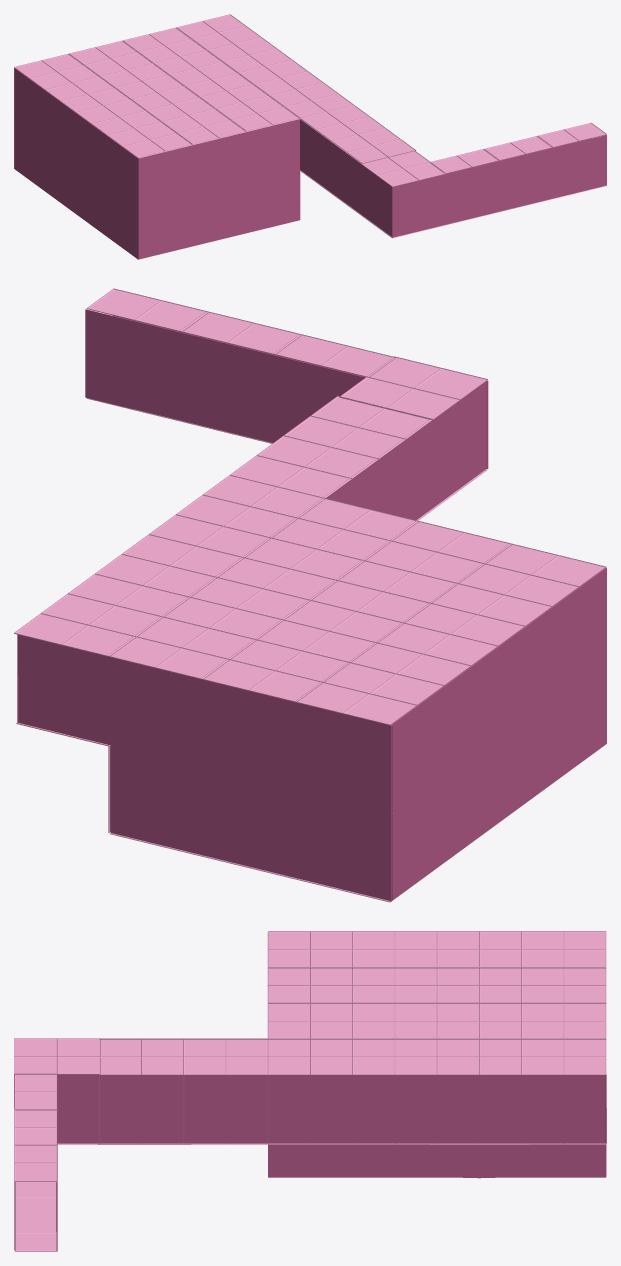
The model's file is ROOM1_Model.fbx.
3 renders of one model, top to bottom at view 1: azimuth 30°, elevation 25°; view 2: azimuth 150°, elevation 25°; view 3: azimuth 270°, elevation 25°, orthographic. The views are drawn at different scales.
Visible parts, largest first — view 1: polySurface316; view 2: polySurface316; view 3: polySurface316.
Part boxes in pixels (x1,y1,x2,y2): polySurface316: (14, 14, 606, 259); polySurface316: (14, 288, 606, 902); polySurface316: (14, 931, 606, 1251).
Bounding box in the file's own units: 5622 × 1455 × 5615.
5 materials, 5 textured.
